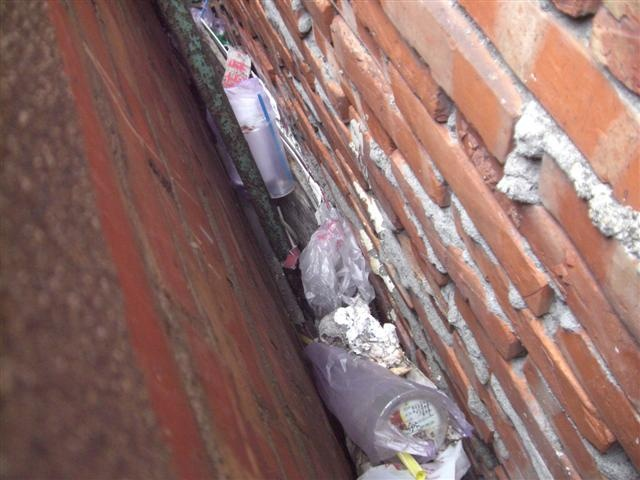bottle: (299, 339, 450, 465), (241, 112, 297, 200)
plastic_bag: (302, 226, 369, 311)
